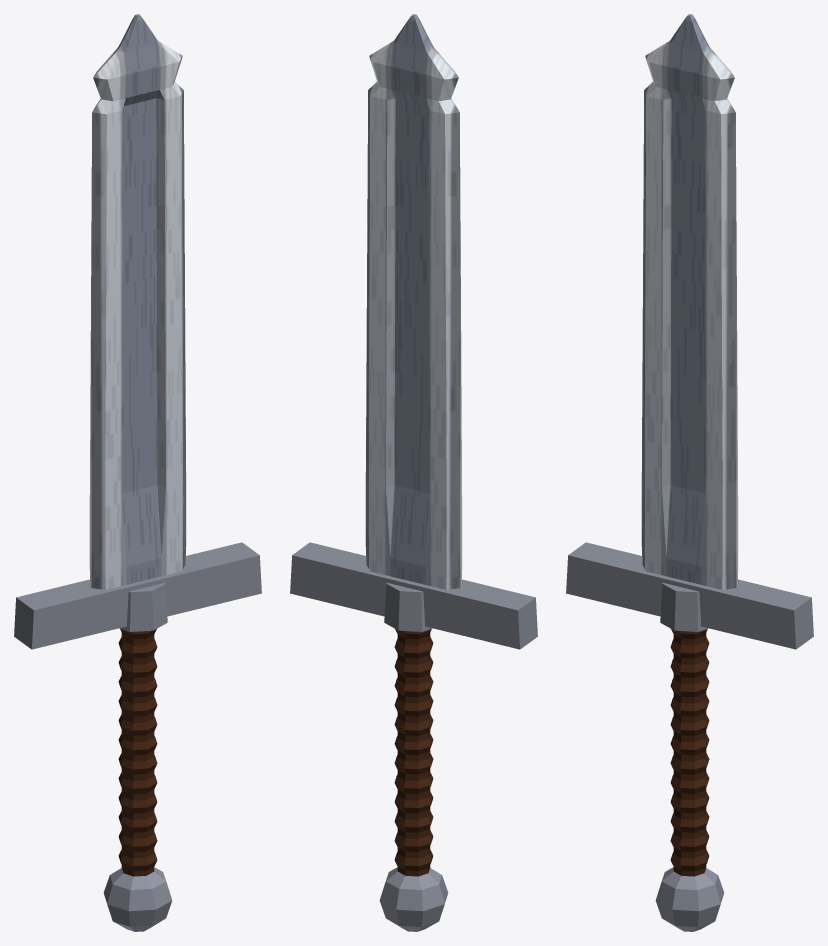
Rendered from steel_sword.obj.
The picture shows the model from 3 angles, left to right: view 1: azimuth 30°, elevation 25°; view 2: azimuth 150°, elevation 25°; view 3: azimuth 330°, elevation 25°; orthographic projection.
Visible parts, largest first — view 1: A_Blade.001_steel_sword_blade, B_Guard.001_steel_sword_fittings, C_Grip.001_steel_sword_grip, C_Pommel.001_steel_sword_fittings, B_Collar.001_steel_sword_fittings; view 2: A_Blade.001_steel_sword_blade, B_Guard.001_steel_sword_fittings, C_Grip.001_steel_sword_grip, C_Pommel.001_steel_sword_fittings, B_Collar.001_steel_sword_fittings; view 3: A_Blade.001_steel_sword_blade, B_Guard.001_steel_sword_fittings, C_Grip.001_steel_sword_grip, C_Pommel.001_steel_sword_fittings, B_Collar.001_steel_sword_fittings.
Part boxes in pixels (bbox=[...]): A_Blade.001_steel_sword_blade: bbox=[89, 14, 186, 589]; B_Guard.001_steel_sword_fittings: bbox=[14, 542, 261, 649]; C_Grip.001_steel_sword_grip: bbox=[118, 629, 157, 876]; C_Pommel.001_steel_sword_fittings: bbox=[103, 867, 172, 931]; B_Collar.001_steel_sword_fittings: bbox=[119, 583, 167, 631]; A_Blade.001_steel_sword_blade: bbox=[365, 14, 462, 589]; B_Guard.001_steel_sword_fittings: bbox=[290, 542, 537, 649]; C_Grip.001_steel_sword_grip: bbox=[394, 629, 433, 876]; C_Pommel.001_steel_sword_fittings: bbox=[379, 867, 448, 931]; B_Collar.001_steel_sword_fittings: bbox=[384, 583, 432, 631]; A_Blade.001_steel_sword_blade: bbox=[641, 14, 738, 589]; B_Guard.001_steel_sword_fittings: bbox=[566, 542, 813, 649]; C_Grip.001_steel_sword_grip: bbox=[670, 629, 709, 876]; C_Pommel.001_steel_sword_fittings: bbox=[655, 867, 724, 931]; B_Collar.001_steel_sword_fittings: bbox=[660, 583, 708, 631].
Bounding box in the file's own units: 1.12 × 4.25 × 0.3.
